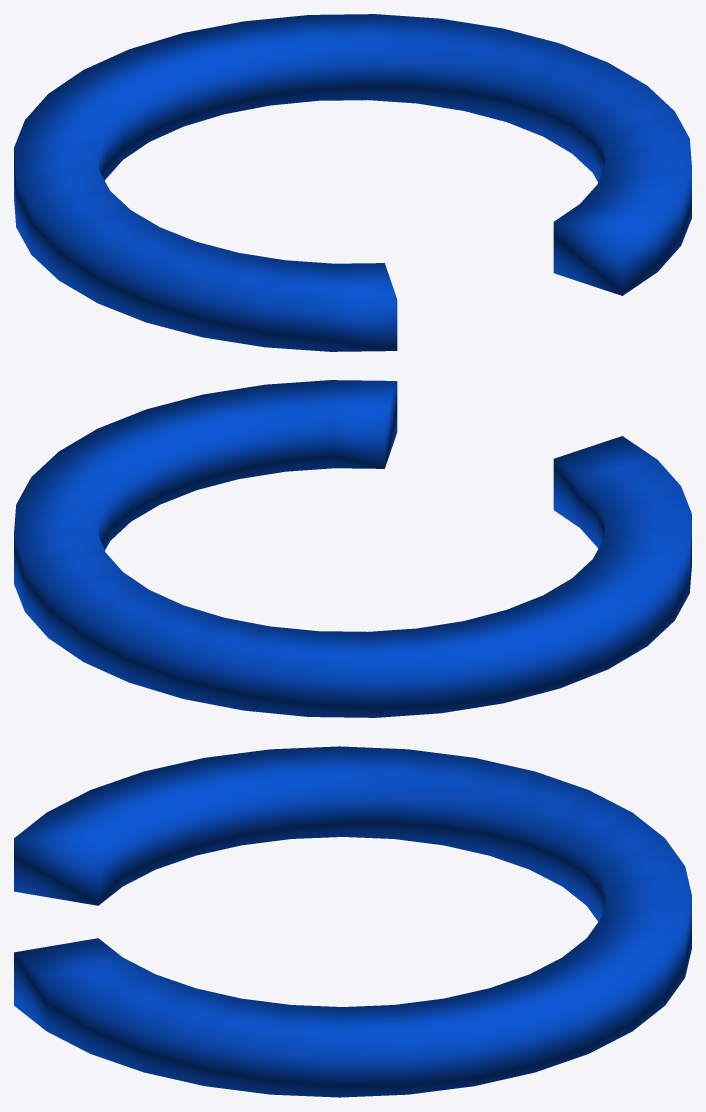
The model's file is inner.fbx.
3 views of the same model, one above another, from view 1: azimuth 30°, elevation 25°; view 2: azimuth 150°, elevation 25°; view 3: azimuth 270°, elevation 25° (orthographic). The views are drawn at different scales.
Parts seen in each view (by area): view 1: inner; view 2: inner; view 3: inner.
Part boxes in pixels (x1,y1,x2,y2): inner: [14, 14, 691, 351]; inner: [14, 380, 691, 717]; inner: [14, 746, 691, 1097].
Bounding box in the file's own units: 2.4 × 0.2 × 2.31.
